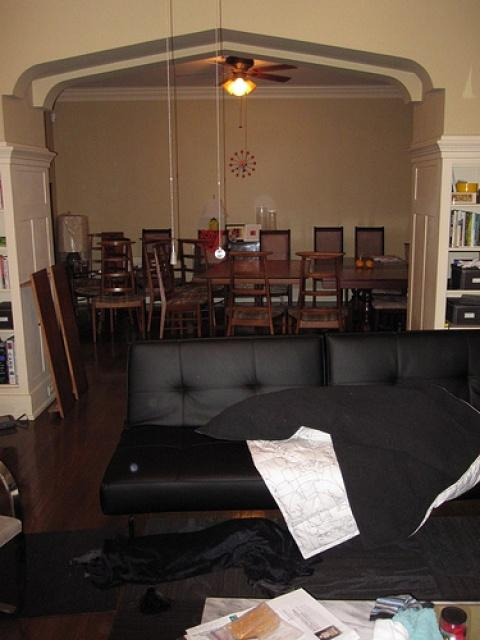Kursi: (89, 239, 145, 342), (151, 242, 205, 339), (285, 250, 346, 335), (227, 249, 287, 335)
Meja: (191, 256, 407, 292)
